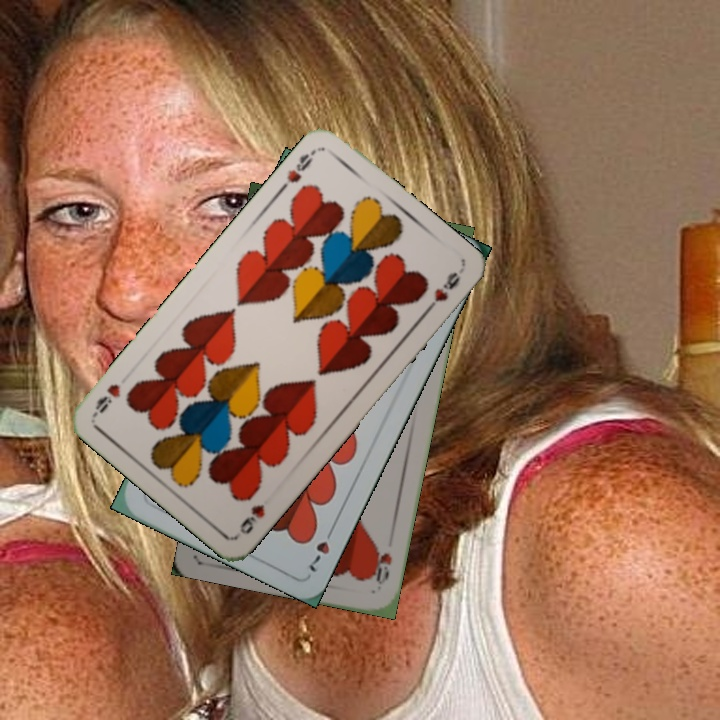H7: (304, 521, 338, 575)
H9: (276, 145, 319, 194), (235, 500, 268, 537)
HO: (367, 542, 395, 590)
